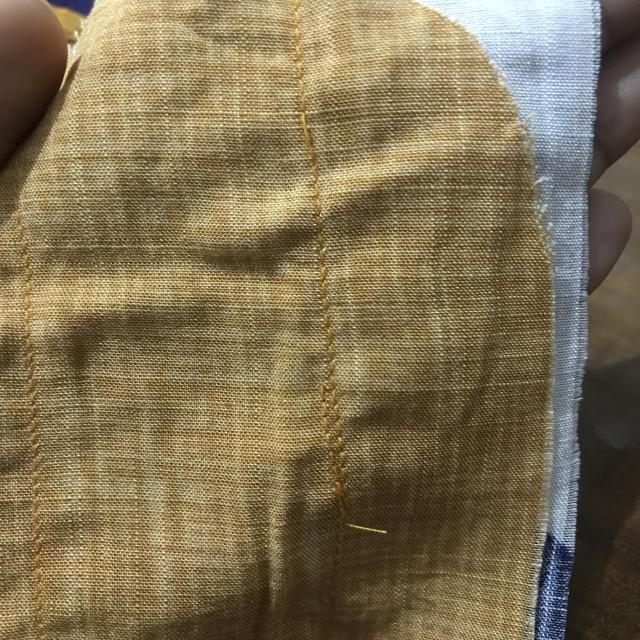skip: (282, 96, 336, 175)
